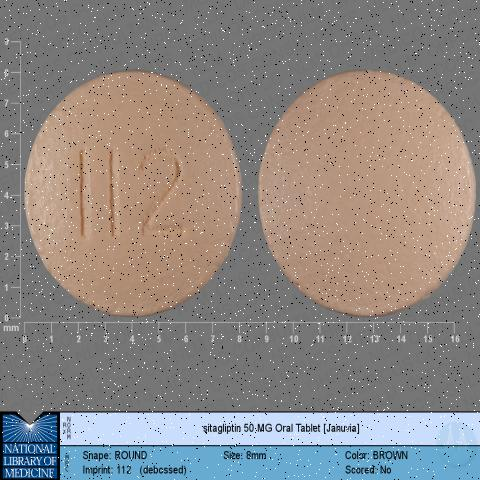Pill: (9, 28, 251, 337), (257, 30, 480, 331)
